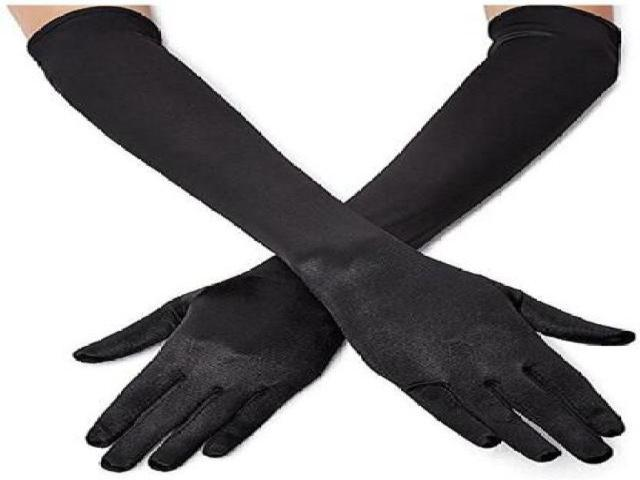Hand-in-Glove: (30, 4, 632, 480)
